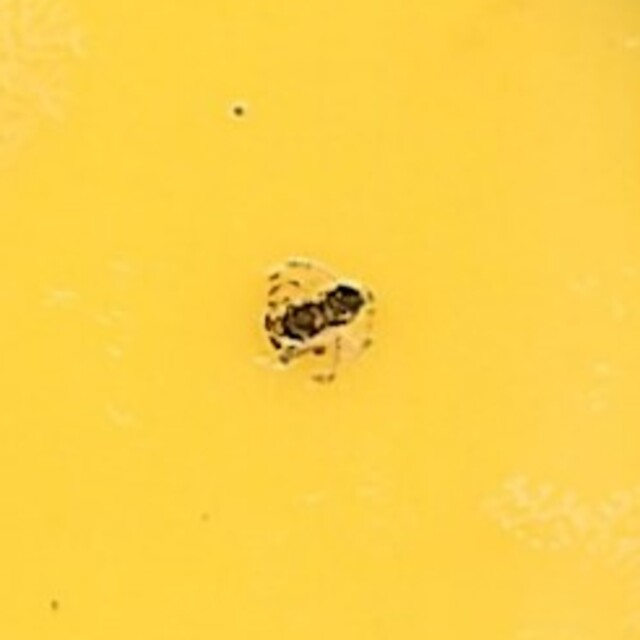Araneae: (260, 249, 380, 391)
